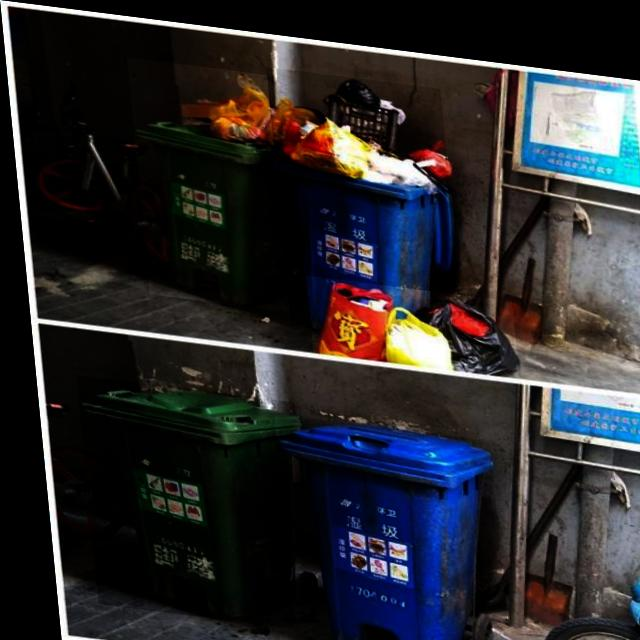garbage: (301, 269, 513, 365)
garbage_bin: (69, 374, 304, 625), (266, 407, 501, 640)
overflow: (266, 60, 460, 335), (126, 54, 328, 309)
